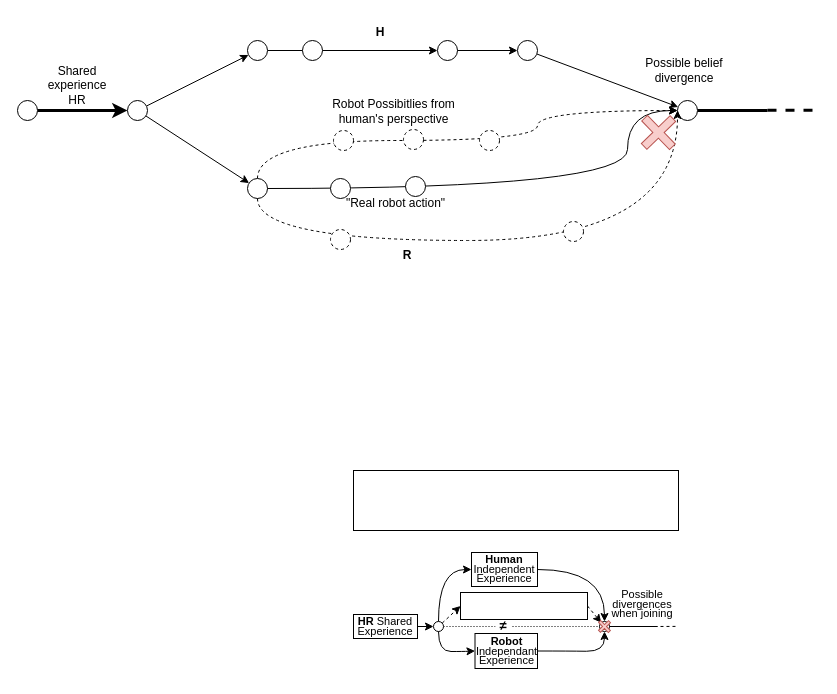
This 837x694 diagram has some shape labels left out. Each missing label, with the centre of its shape:
"Robot Possibilities from human's perspective" belongs at point 524,606.
"Width Size reference to fit in one column" belongs at point 515,500.
